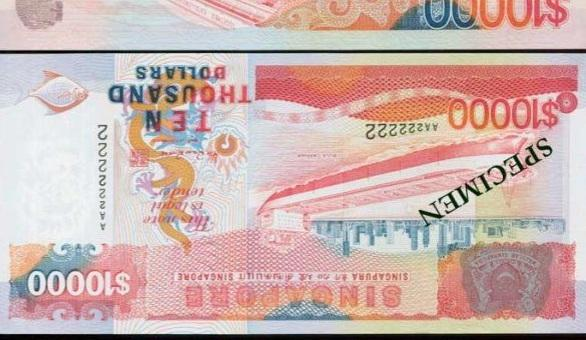10000SingaporeDollar: (1, 55, 586, 335)
